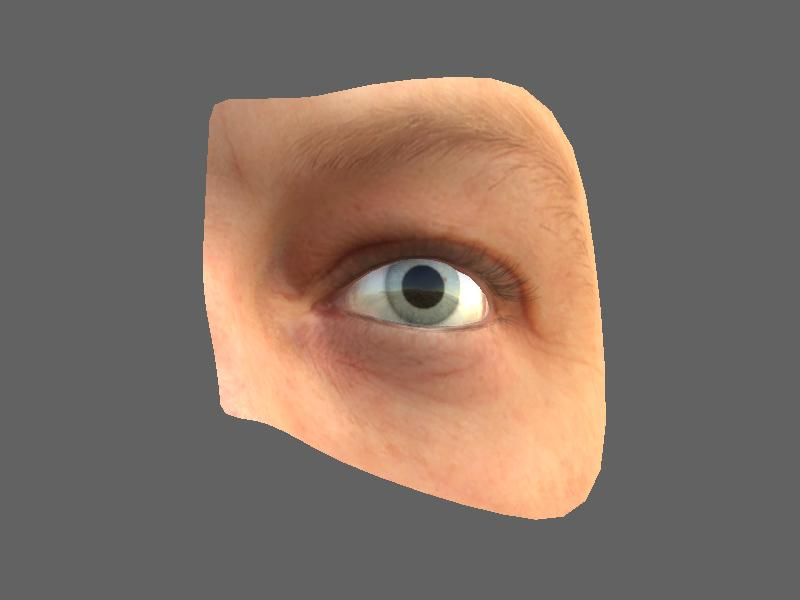iris: (387, 260, 459, 323)
